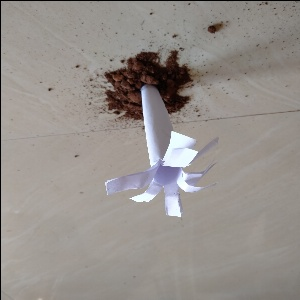weed: (103, 83, 213, 220)
